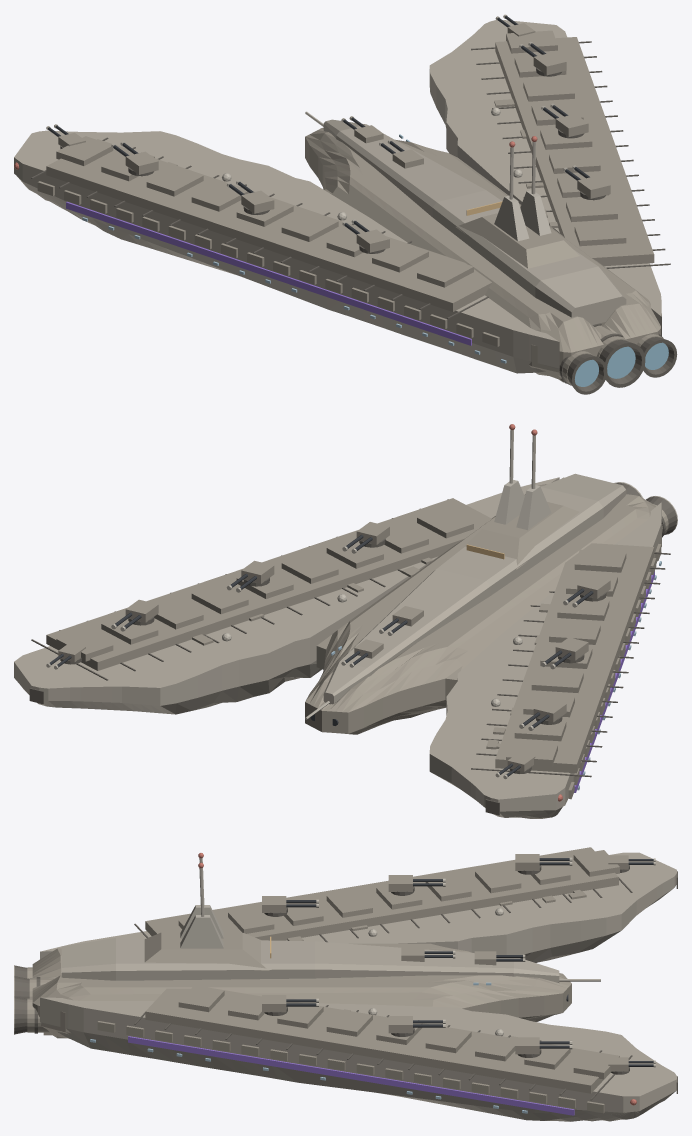
Rendered from echtar-falcon.glb.
3 renders of one model, top to bottom at view 1: azimuth 30°, elevation 25°; view 2: azimuth 150°, elevation 25°; view 3: azimuth 270°, elevation 25°, orthographic. The views are drawn at different scales.
Visible parts, largest first — view 1: deck_armor_000, wing_000, spine_000, upper_deck_000, turret_housing_000, flank_rib_000, window_strip_000, command_block_000, engine_bell_000, tower_000, panel_seam_000, engine_glow_000 (+2 smaller); view 2: deck_armor_000, wing_000, spine_000, upper_deck_000, turret_housing_000, command_block_000, tower_000, panel_seam_000, rail_barrel_000, flank_rib_000, hull_plate_000, turret_base_000 (+1 smaller); view 3: wing_000, deck_armor_000, spine_000, upper_deck_000, turret_housing_000, flank_rib_000, window_strip_000, command_block_000, rail_barrel_000, tower_000, engine_bell_000, panel_seam_000 (+3 smaller).
Boxes of the visible parts, x1=… form: deck_armor_000: x1=46, y1=30, x2=654, y2=311; wing_000: x1=14, y1=20, x2=661, y2=373; spine_000: x1=305, y1=127, x2=661, y2=382; upper_deck_000: x1=323, y1=119, x2=626, y2=324; turret_housing_000: x1=58, y1=23, x2=610, y2=252; flank_rib_000: x1=37, y1=181, x2=499, y2=346; window_strip_000: x1=66, y1=201, x2=471, y2=345; command_block_000: x1=456, y1=213, x2=579, y2=268; engine_bell_000: x1=567, y1=337, x2=677, y2=394; tower_000: x1=494, y1=190, x2=551, y2=241; panel_seam_000: x1=31, y1=41, x2=670, y2=318; engine_glow_000: x1=574, y1=342, x2=668, y2=386; deck_armor_000: x1=46, y1=498, x2=654, y2=773; wing_000: x1=14, y1=477, x2=661, y2=818; spine_000: x1=305, y1=477, x2=661, y2=734; upper_deck_000: x1=323, y1=473, x2=626, y2=704; turret_housing_000: x1=58, y1=522, x2=610, y2=771; command_block_000: x1=459, y1=502, x2=579, y2=569; tower_000: x1=494, y1=479, x2=551, y2=530; panel_seam_000: x1=31, y1=499, x2=670, y2=777; rail_barrel_000: x1=49, y1=535, x2=593, y2=776; flank_rib_000: x1=568, y1=544, x2=661, y2=799; hull_plate_000: x1=192, y1=557, x2=550, y2=749; turret_base_000: x1=60, y1=538, x2=606, y2=773; wing_000: x1=40, y1=852, x2=676, y2=1121; deck_armor_000: x1=145, y1=847, x2=619, y2=1093; spine_000: x1=32, y1=943, x2=571, y2=1038; upper_deck_000: x1=61, y1=937, x2=559, y2=982; turret_housing_000: x1=262, y1=854, x2=628, y2=1071; flank_rib_000: x1=97, y1=1021, x2=604, y2=1113; window_strip_000: x1=128, y1=1036, x2=574, y2=1115; command_block_000: x1=144, y1=932, x2=269, y2=970; rail_barrel_000: x1=286, y1=858, x2=653, y2=1066; tower_000: x1=180, y1=905, x2=223, y2=948; engine_bell_000: x1=14, y1=965, x2=29, y2=1034; panel_seam_000: x1=134, y1=878, x2=632, y2=1100.
Bounding box in the file's own units: 3.29 × 1.09 × 3.67.
